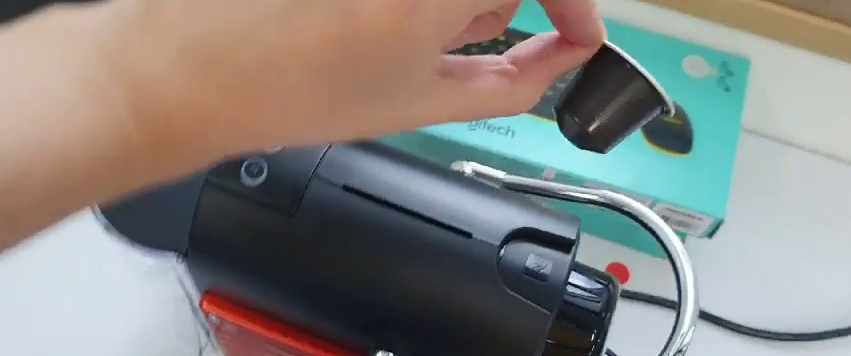capsule_4: (552, 30, 679, 154)
